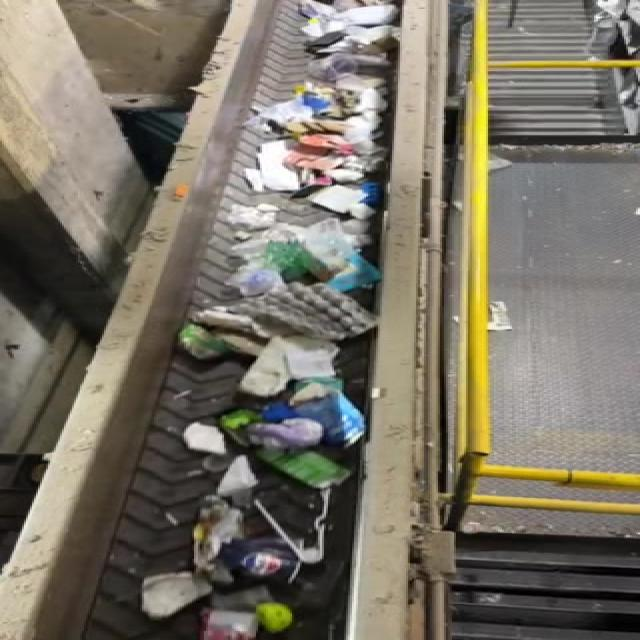metal: (208, 538, 315, 584)
paper: (138, 570, 213, 622), (155, 412, 233, 457), (212, 452, 259, 499)
pp: (285, 383, 379, 449), (187, 502, 246, 563)
